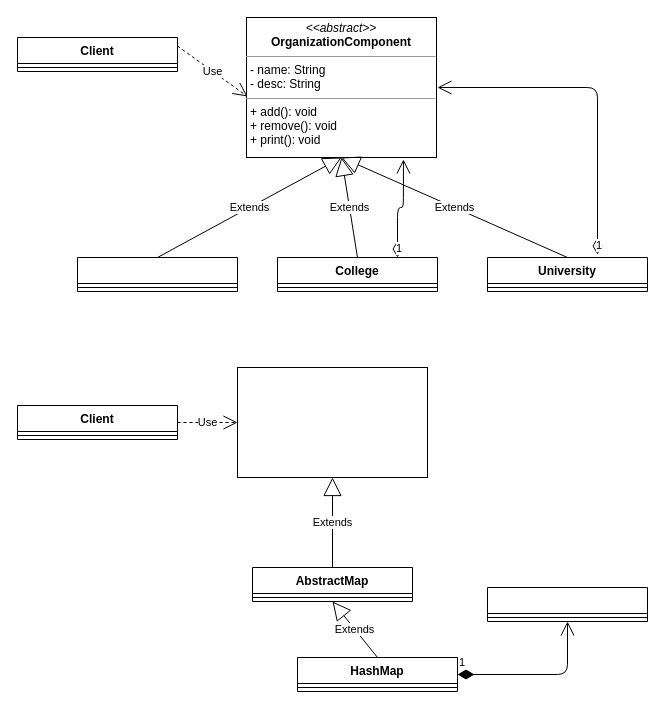
This 665x709 diagram has some shape labels left out. Here are the shapes that lost their labels. From the top down, the box of each, then its label:
(76, 256, 238, 292): Department
(236, 366, 428, 478): <<interface>> Map + put(): void + putAll(): void
(486, 586, 648, 622): Node
